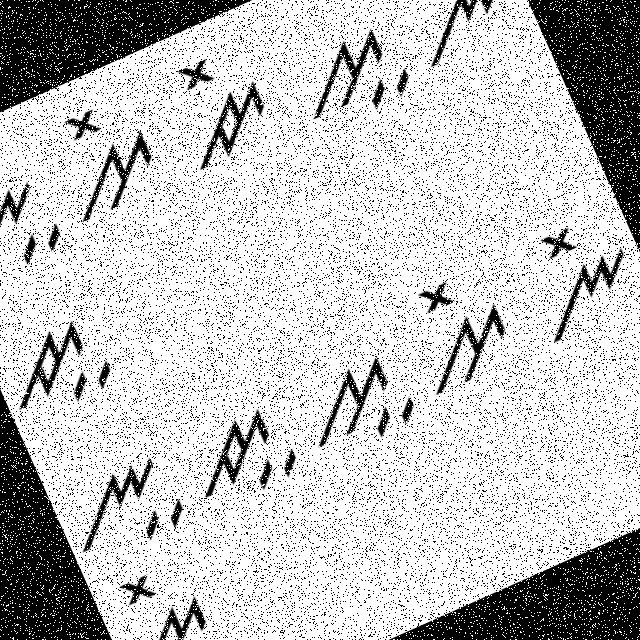jah: (174, 386, 314, 518), (0, 301, 125, 430)
jo: (153, 36, 292, 182), (99, 545, 240, 639)
nyah: (48, 440, 198, 572), (0, 148, 79, 300)
nyo: (502, 195, 639, 347), (383, 0, 530, 77)
sah: (276, 1, 424, 139), (289, 341, 430, 466)
so: (33, 80, 176, 234), (392, 254, 526, 400)
